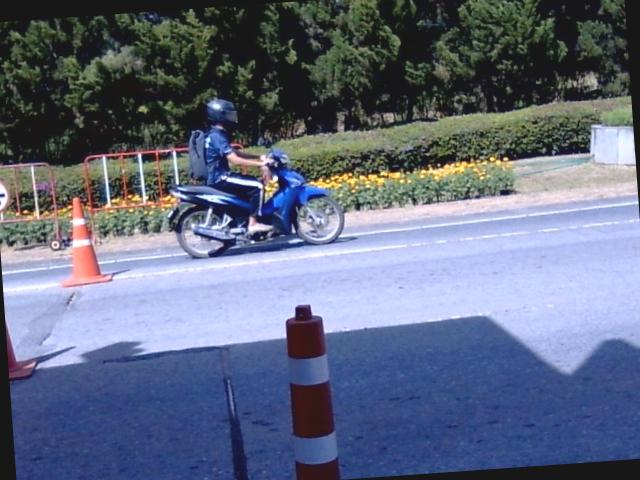helmet: (205, 97, 237, 130)
motor: (168, 148, 343, 257)
person: (203, 99, 269, 232)
